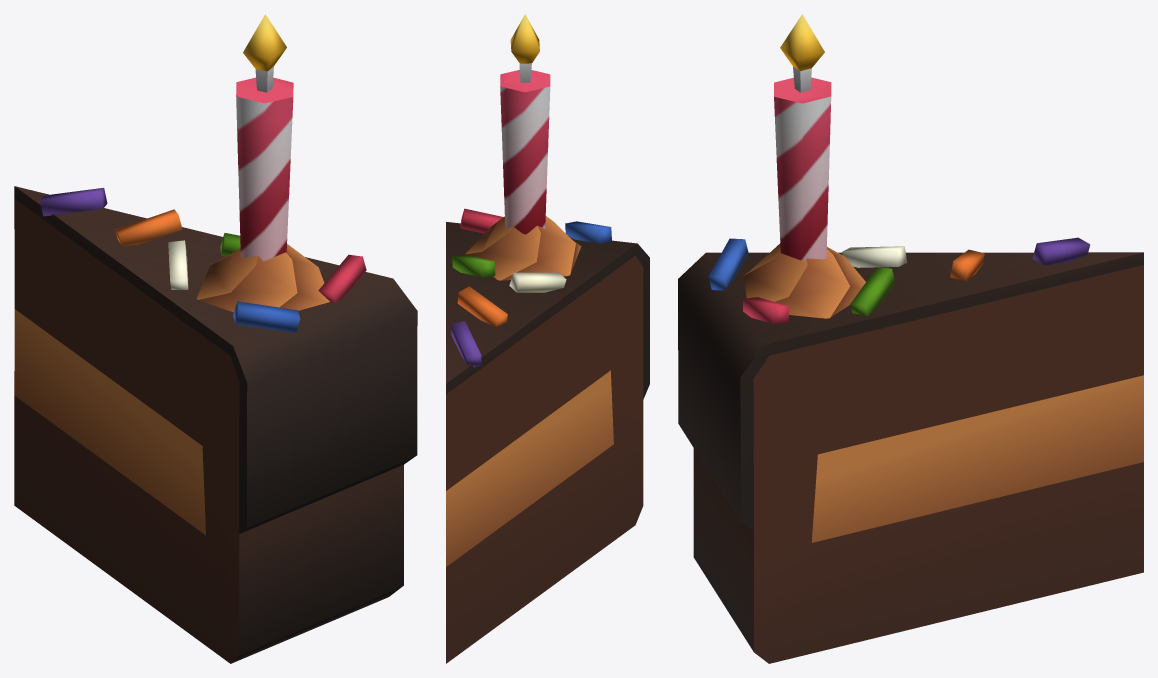
File: m_BirthdayCake04_Slice01.fbx
3 renders of one model, left to right at view 1: azimuth 30°, elevation 25°; view 2: azimuth 150°, elevation 25°; view 3: azimuth 270°, elevation 25°, orthographic. The views are drawn at different scales.
Visible parts, largest first — view 1: m_BirthdayCake04_Slice01; view 2: m_BirthdayCake04_Slice01; view 3: m_BirthdayCake04_Slice01.
Part boxes in pixels (box(x1,y1,x2,y2)): m_BirthdayCake04_Slice01: box(14, 14, 417, 663); m_BirthdayCake04_Slice01: box(446, 14, 649, 663); m_BirthdayCake04_Slice01: box(678, 14, 1143, 663).
Bounding box in the file's own units: 7.51 × 20.5 × 14.48.
